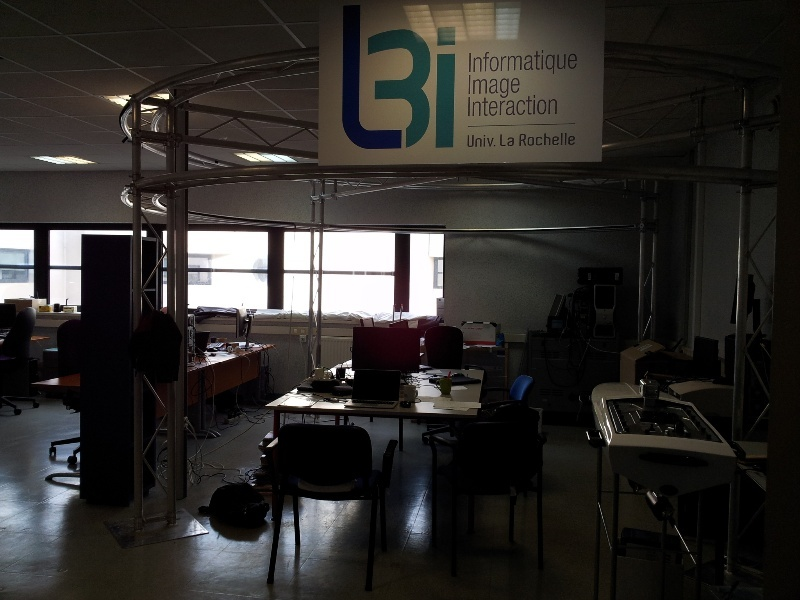text: (353, 6, 368, 151), (369, 6, 384, 151), (385, 6, 400, 151), (401, 6, 416, 151), (417, 6, 432, 151), (433, 6, 448, 151), (449, 6, 460, 151), (342, 6, 352, 151), (481, 50, 496, 75), (497, 50, 512, 75), (513, 50, 528, 75), (529, 50, 544, 75), (545, 50, 560, 75), (561, 50, 576, 75), (481, 74, 496, 98), (497, 74, 512, 98), (481, 95, 496, 117), (497, 95, 512, 117), (513, 95, 528, 117), (529, 95, 544, 117), (467, 74, 480, 98), (545, 95, 559, 117), (468, 50, 480, 75), (467, 95, 480, 117), (529, 132, 544, 147), (545, 132, 560, 147), (561, 132, 576, 147), (513, 74, 522, 98), (481, 134, 496, 148), (468, 134, 480, 148), (500, 134, 512, 148), (519, 132, 528, 147), (467, 327, 480, 332), (577, 50, 579, 75), (513, 134, 515, 148), (577, 132, 578, 147), (481, 327, 484, 332), (497, 134, 498, 148)
